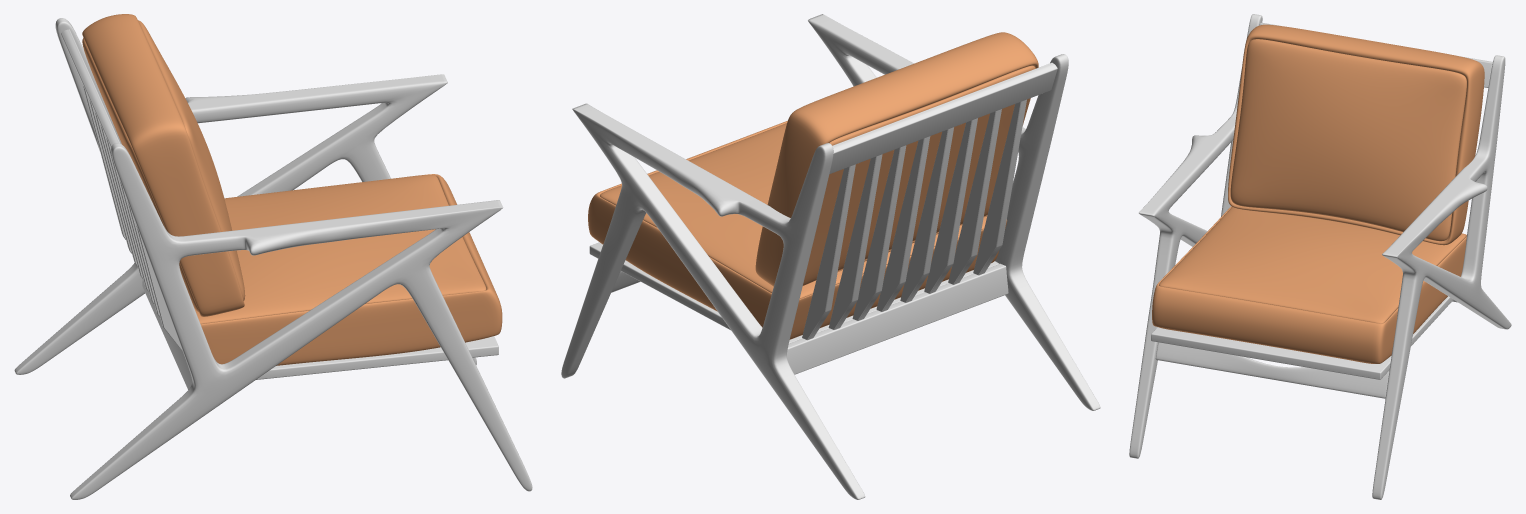
The model's file is Newchair.glb.
The picture shows the model from 3 angles, left to right: view 1: azimuth 30°, elevation 25°; view 2: azimuth 150°, elevation 25°; view 3: azimuth 270°, elevation 25°; orthographic projection. The views are drawn at different scales.
Visible parts, largest first — view 1: cushions, legs, back, base, supports; view 2: cushions, legs, back, supports, base; view 3: cushions, legs, supports, base.
Part boxes in pixels (left/top/right/bottom): cushions: left=82, top=14, right=502, bottom=365; legs: left=14, top=18, right=532, bottom=499; back: left=82, top=83, right=182, bottom=351; base: left=256, top=336, right=498, bottom=379; supports: left=61, top=29, right=191, bottom=389; cushions: left=588, top=32, right=1038, bottom=339; legs: left=561, top=14, right=1100, bottom=499; back: left=802, top=99, right=1026, bottom=340; supports: left=611, top=62, right=1057, bottom=374; base: left=589, top=242, right=998, bottom=343; cushions: left=1152, top=24, right=1484, bottom=363; legs: left=1129, top=14, right=1511, bottom=499; supports: left=1155, top=22, right=1492, bottom=398; base: left=1151, top=296, right=1453, bottom=379.
Size of the model in its own units: 1.3 by 1.01 by 1.1.
